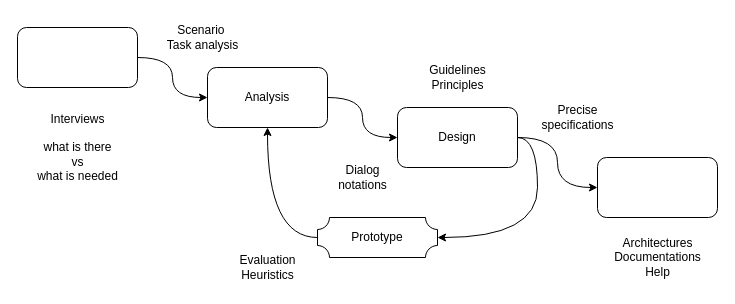
Image size: 735x304. Some labels were removed from this diagram. Each missing label, with the centre of its shape:
"Implement and deploy" goes at [657,187].
"What is needed" goes at [77,57].
